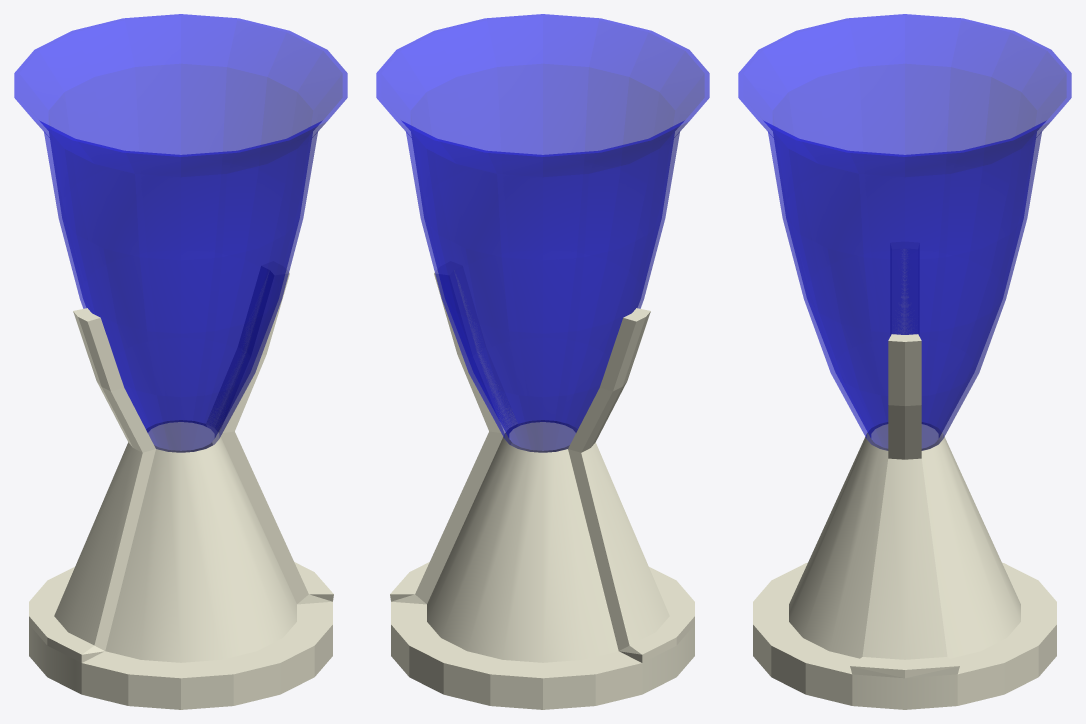
Rendered from SimpleGlassCup.FBX.
The picture shows the model from 3 angles, left to right: view 1: azimuth 30°, elevation 25°; view 2: azimuth 150°, elevation 25°; view 3: azimuth 270°, elevation 25°; orthographic projection.
Visible parts, largest first — view 1: Simple Glass Cup; view 2: Simple Glass Cup; view 3: Simple Glass Cup.
Part boxes in pixels (left/top/right/bottom): Simple Glass Cup: left=14, top=14, right=347, bottom=709; Simple Glass Cup: left=376, top=14, right=709, bottom=709; Simple Glass Cup: left=738, top=14, right=1071, bottom=709.
Bounding box in the file's own units: 17.27 × 31.5 × 17.01.
